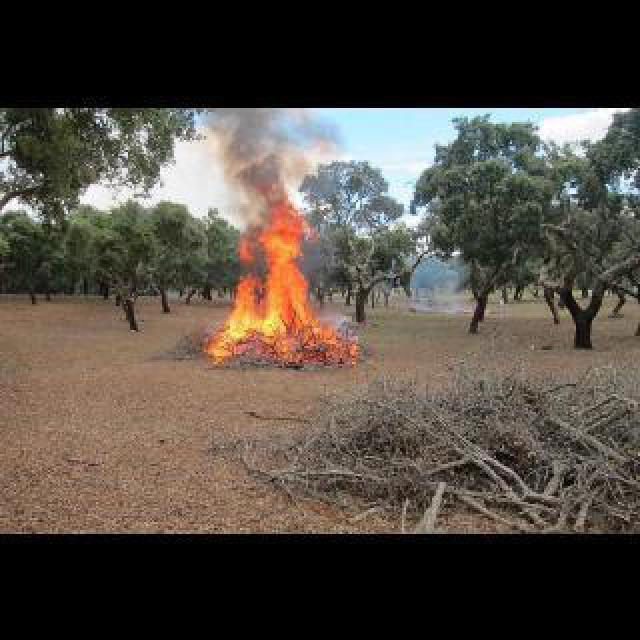fire: (226, 220, 333, 356)
smoke: (206, 110, 329, 210), (410, 262, 464, 317)
